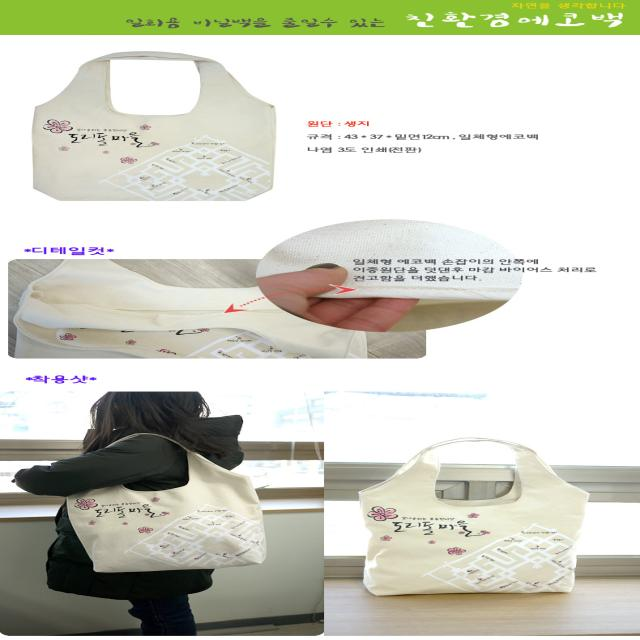ecobag: (344, 439, 603, 602)
